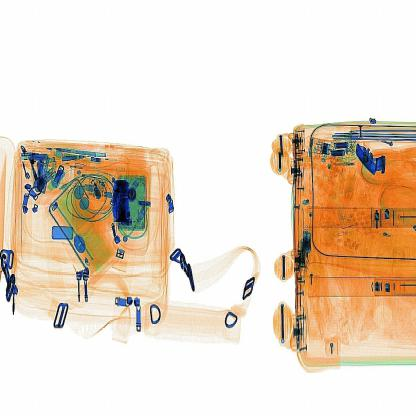scissors: (103, 172, 140, 239)
